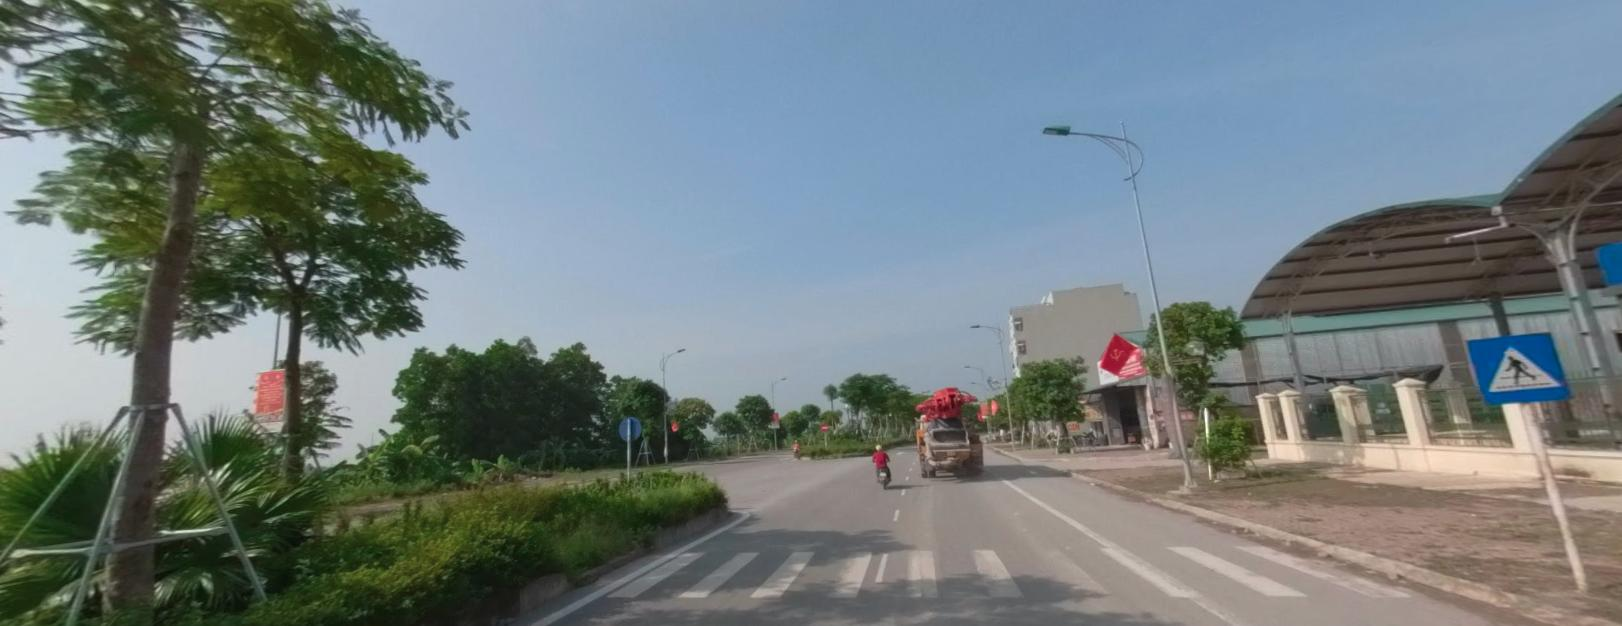Cam nguoc chieu: (820, 422, 828, 430)
